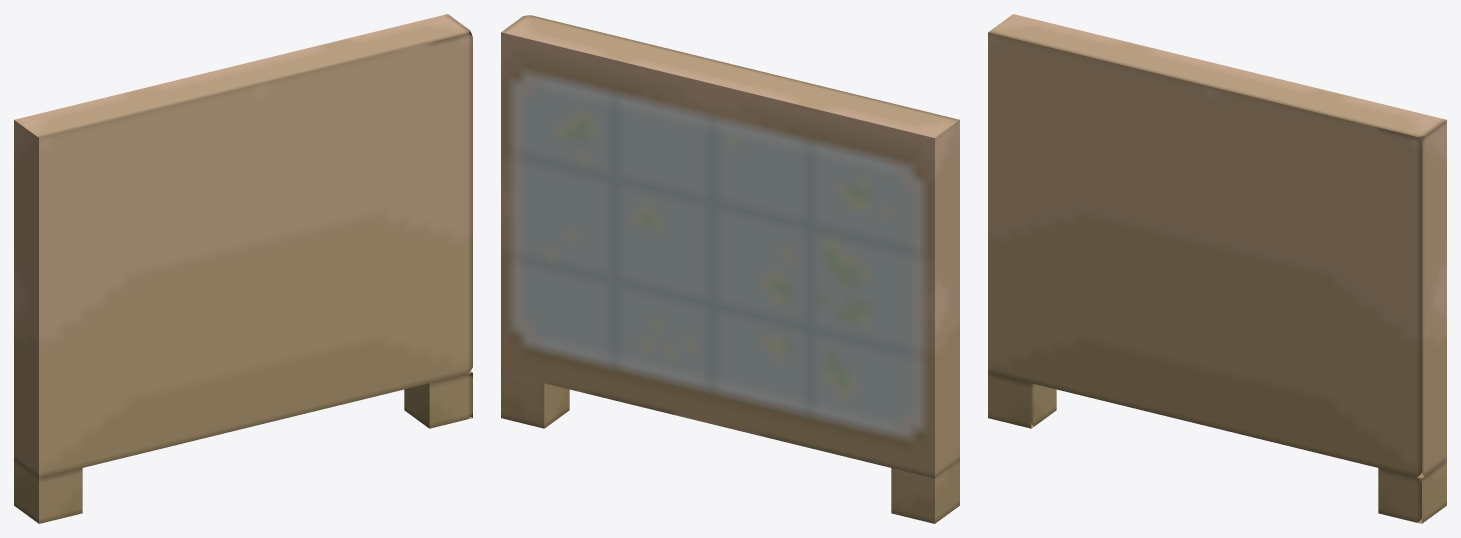
The model's file is SeaChartBoard.fbx.
The picture shows the model from 3 angles, left to right: view 1: azimuth 30°, elevation 25°; view 2: azimuth 150°, elevation 25°; view 3: azimuth 330°, elevation 25°; orthographic projection.
Visible parts, largest first — view 1: board, leg_1, leg; view 2: board, leg_1, leg; view 3: board, leg, leg_1.
Part boxes in pixels (x1,y1,x2,y2): board: [14, 14, 472, 478]; leg_1: [14, 460, 82, 523]; leg: [404, 371, 472, 428]; board: [501, 15, 959, 478]; leg_1: [891, 460, 959, 523]; leg: [501, 373, 569, 428]; board: [988, 14, 1446, 478]; leg: [1378, 460, 1446, 523]; leg_1: [988, 373, 1056, 428].
Size of the model in its own units: 125 by 106 by 12.5.
Materials: 1 (1 with a texture image).
